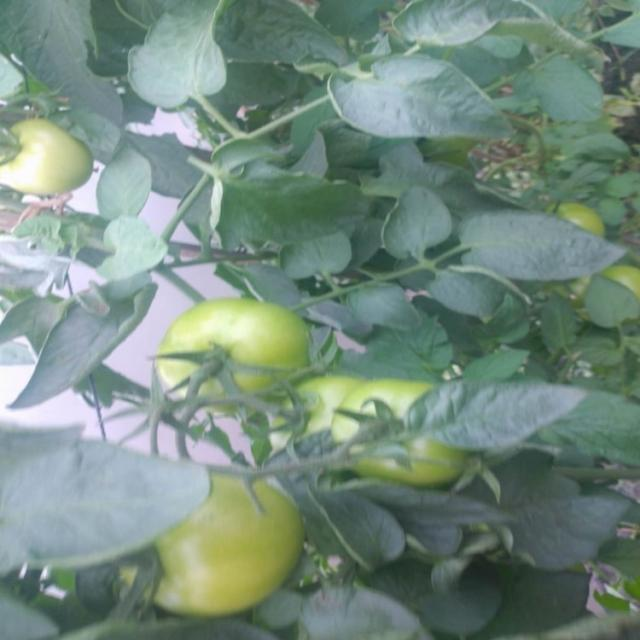tomato: (95, 437, 325, 616), (131, 282, 326, 412), (320, 340, 463, 507), (1, 94, 100, 207), (271, 352, 370, 454), (535, 176, 618, 253)
